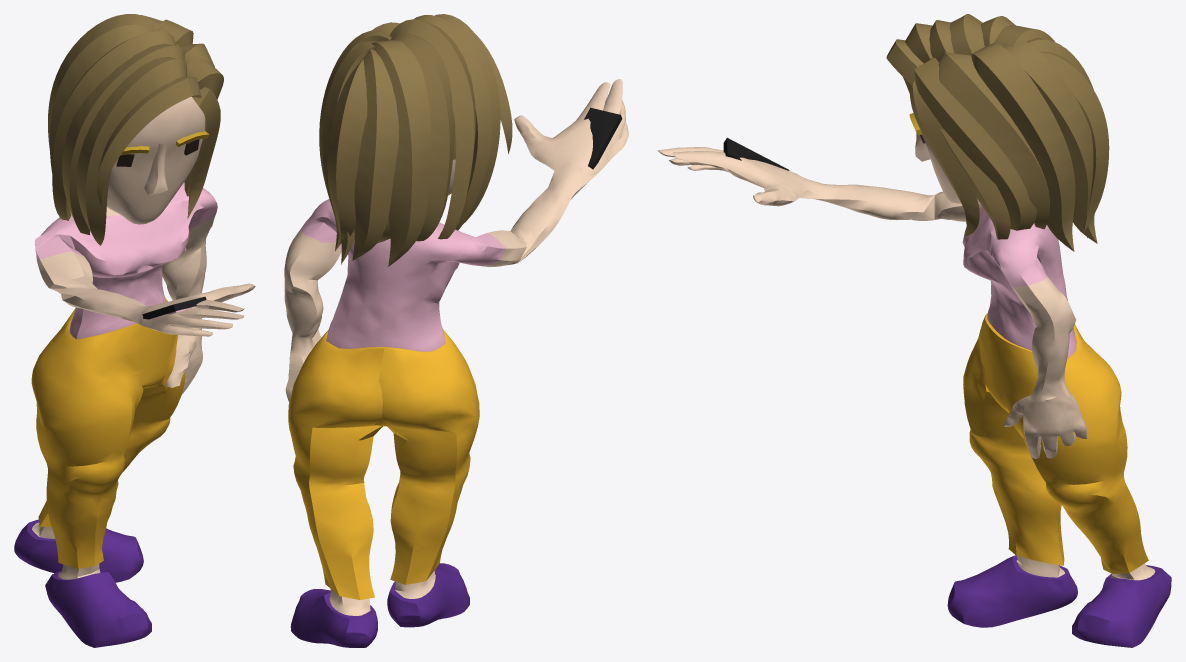
Rendered from av-tiete-fantasy.glb.
The picture shows the model from 3 angles, left to right: view 1: azimuth 30°, elevation 25°; view 2: azimuth 150°, elevation 25°; view 3: azimuth 270°, elevation 25°; orthographic projection. The views are drawn at different scales.
Parts seen in each view (by area): view 1: Ad_celular_0_0; view 2: Ad_celular_0_0; view 3: Ad_celular_0_0.
Boxes of the visible parts, x1,y1,x2,y2 form: Ad_celular_0_0: [14, 14, 255, 647]; Ad_celular_0_0: [284, 14, 628, 647]; Ad_celular_0_0: [657, 14, 1171, 647].
Size of the model in its own units: 0.4782 by 1.35 by 1.04.
Materials: 1 (1 with a texture image).
